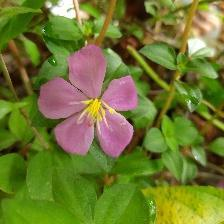malabar melastome: (38, 42, 143, 163)
